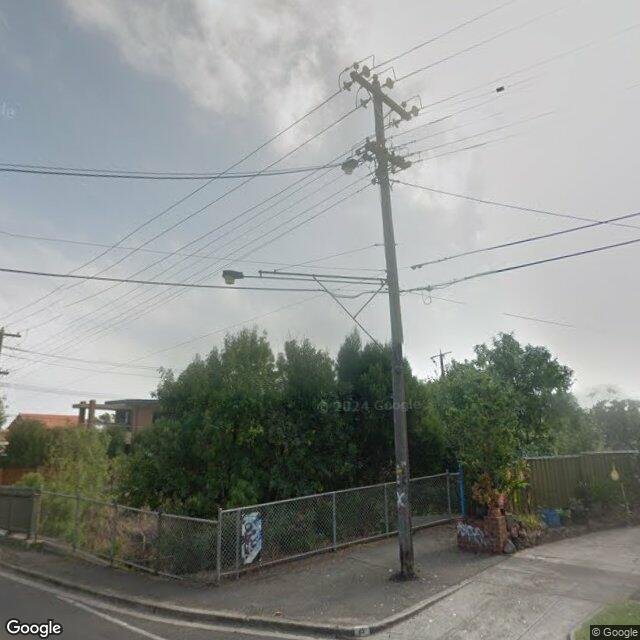HV-transmission: (342, 64, 423, 128)
crossarm: (350, 72, 412, 121), (356, 135, 421, 175), (432, 350, 452, 359), (0, 330, 21, 337)
streetlight: (222, 269, 390, 288)
timber-pole: (373, 80, 416, 576), (0, 325, 5, 353), (440, 349, 444, 375)
